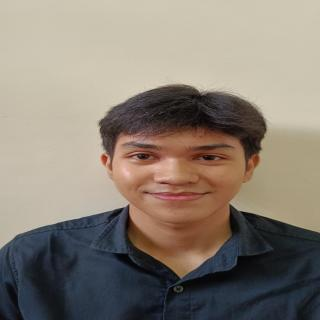Senang: (97, 114, 265, 228)
